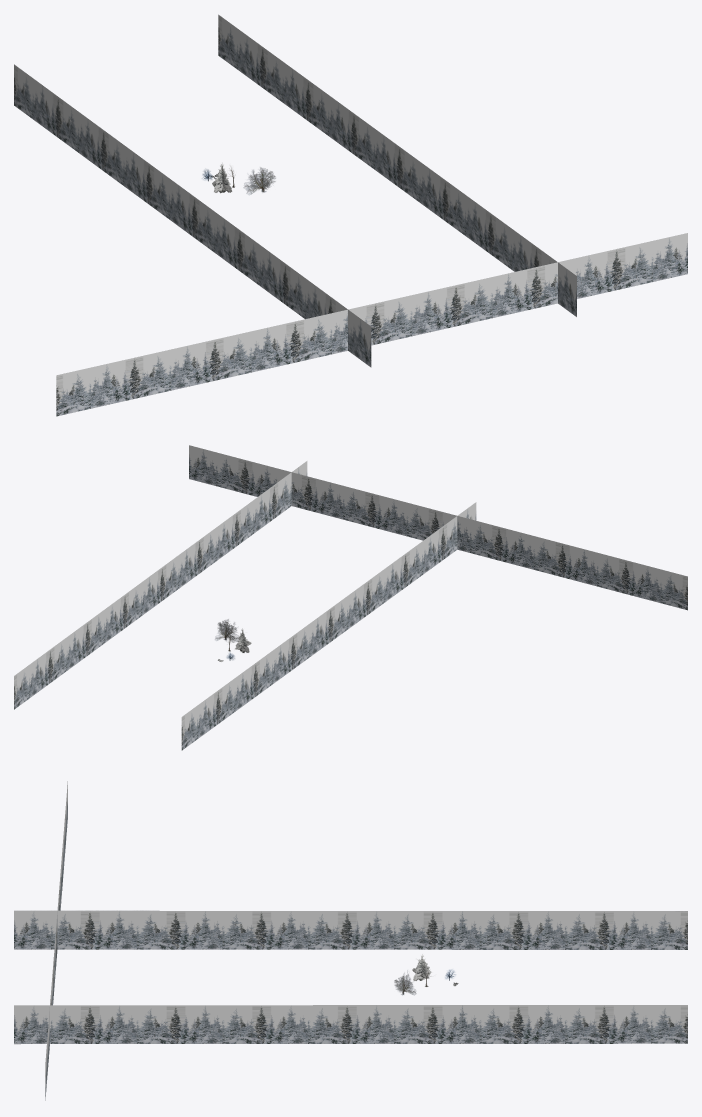
File: tree.glb
3 renders of one model, top to bottom at view 1: azimuth 30°, elevation 25°; view 2: azimuth 150°, elevation 25°; view 3: azimuth 270°, elevation 25°, orthographic. The views are drawn at different scales.
Visible parts, largest first — view 1: treeline.001, treeline; view 2: treeline.001, treeline; view 3: treeline.001, treeline.
Boxes of the visible parts, box(x1,y1,x2,y2) form: treeline.001: box(56, 14, 687, 416); treeline: box(14, 64, 371, 367); treeline.001: box(14, 445, 687, 709); treeline: box(181, 502, 476, 750); treeline.001: box(14, 781, 687, 1100); treeline: box(14, 910, 687, 949).
Bounding box in the file's own units: 469 × 31.06 × 469.
6 materials, 6 textured.
